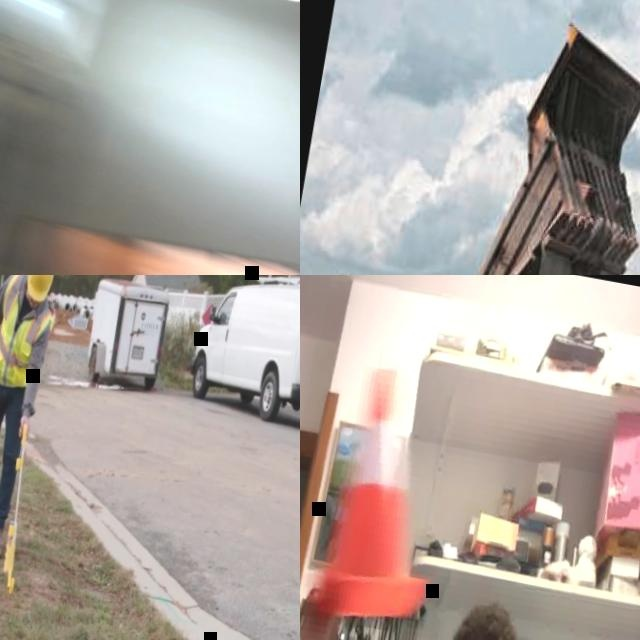Hardhat: (21, 275, 58, 301)
NO-Hardhat: (451, 596, 521, 640)
NO-Mask: (25, 300, 39, 310)
Person: (0, 275, 68, 558)
Safety Cone: (306, 353, 470, 640)
Safety Vest: (0, 275, 62, 393)
machinery: (407, 0, 640, 275)
vehicle: (182, 275, 300, 432)
